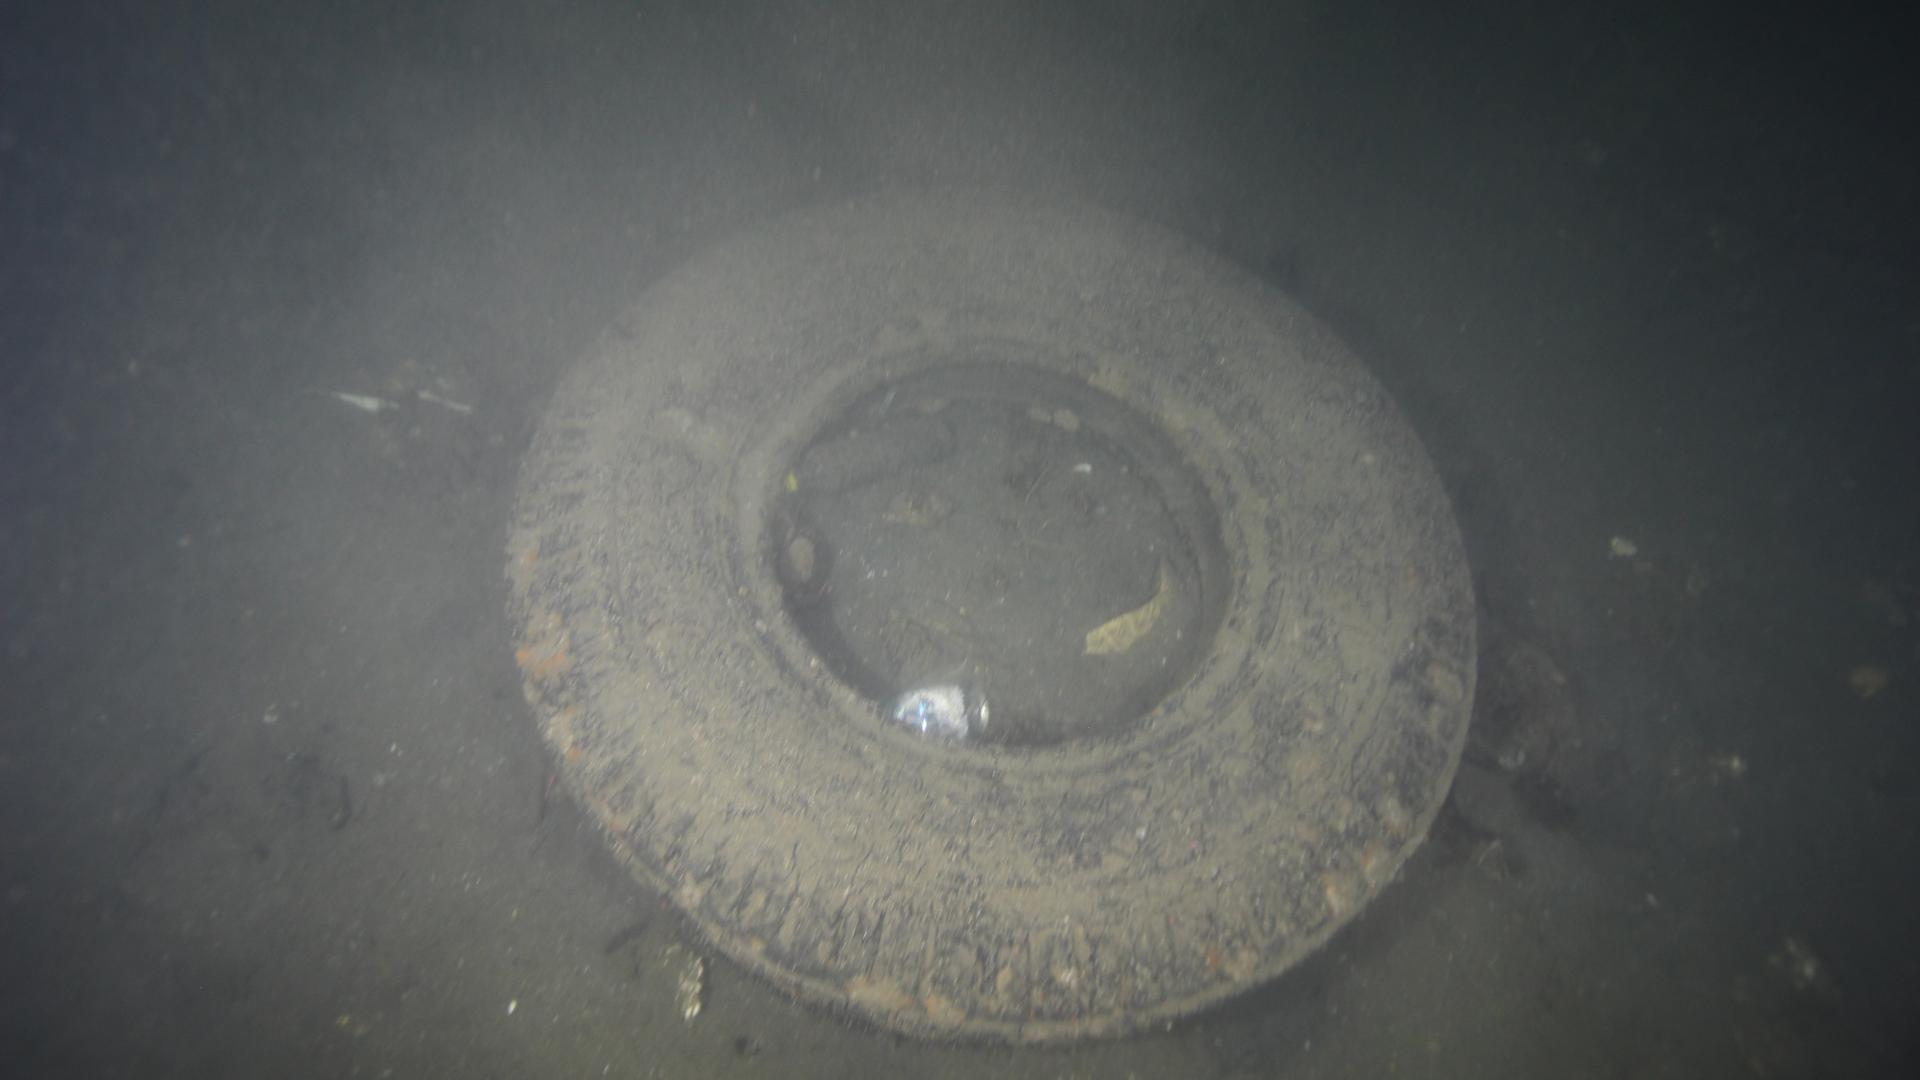tire: (497, 175, 1484, 1048)
